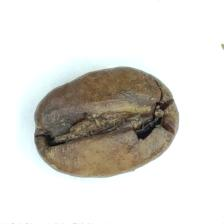NG: (37, 70, 161, 152)
